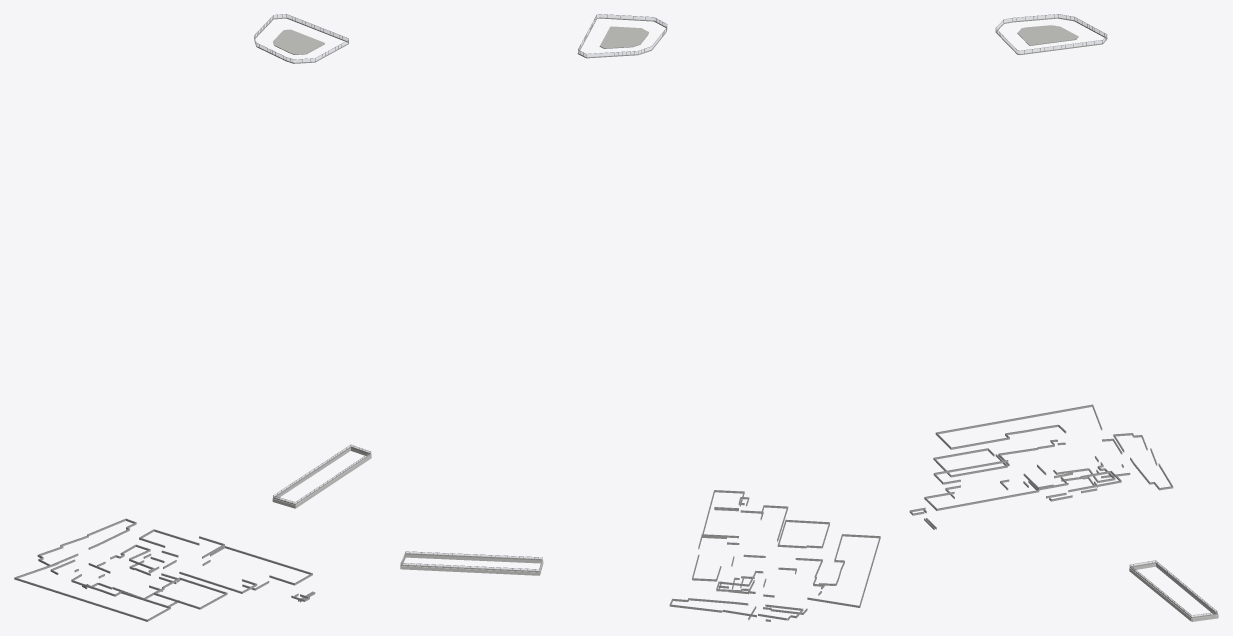
Rendered from d21-roof-bridge-additions.glb.
3 renders of one model, left to right at view 1: azimuth 30°, elevation 25°; view 2: azimuth 150°, elevation 25°; view 3: azimuth 270°, elevation 25°, orthographic. The views are drawn at different scales.
Visible parts, largest first — view 1: INFERRED_structure.001; view 2: INFERRED_structure.001; view 3: INFERRED_structure.001.
Boxes of the visible parts, box(x1,y1,x2,y2) form: INFERRED_structure.001: box(14, 14, 371, 621); INFERRED_structure.001: box(400, 14, 880, 621); INFERRED_structure.001: box(909, 14, 1218, 621).
Size of the model in its own units: 181 by 220 by 117.
Materials: 2 (1 with a texture image).
